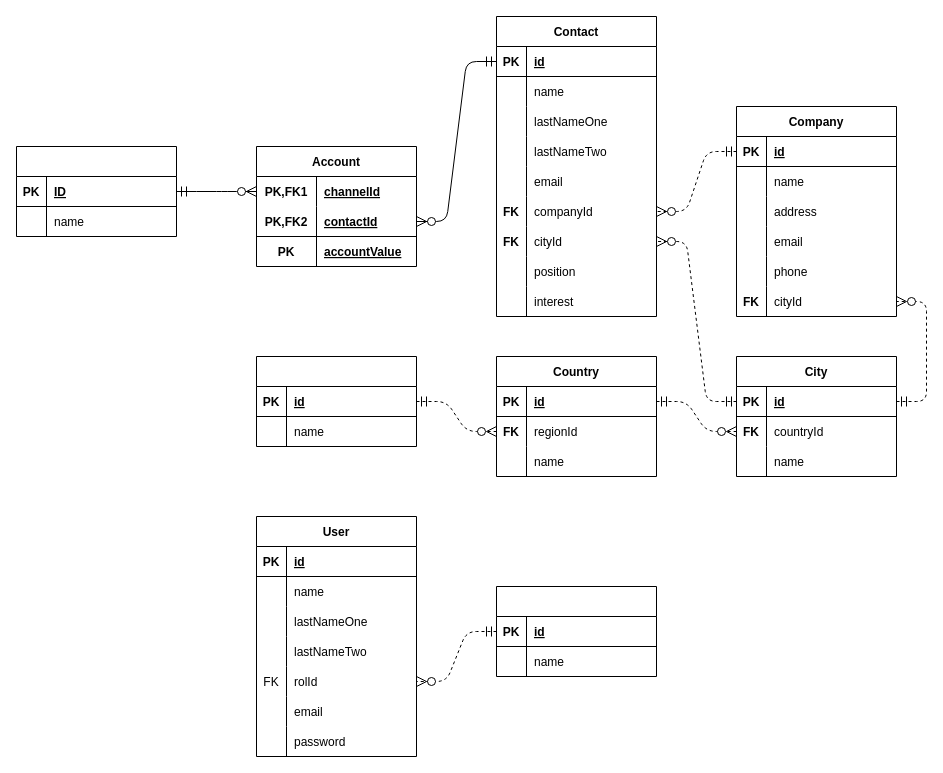
The diagram is 943 pixels wide and 773 high, and some of its shapes have lost their labels. Each missing label, with the box of its shape:
Channel: (16, 146, 176, 236)
Region: (256, 356, 416, 446)
Rol: (496, 586, 656, 676)
